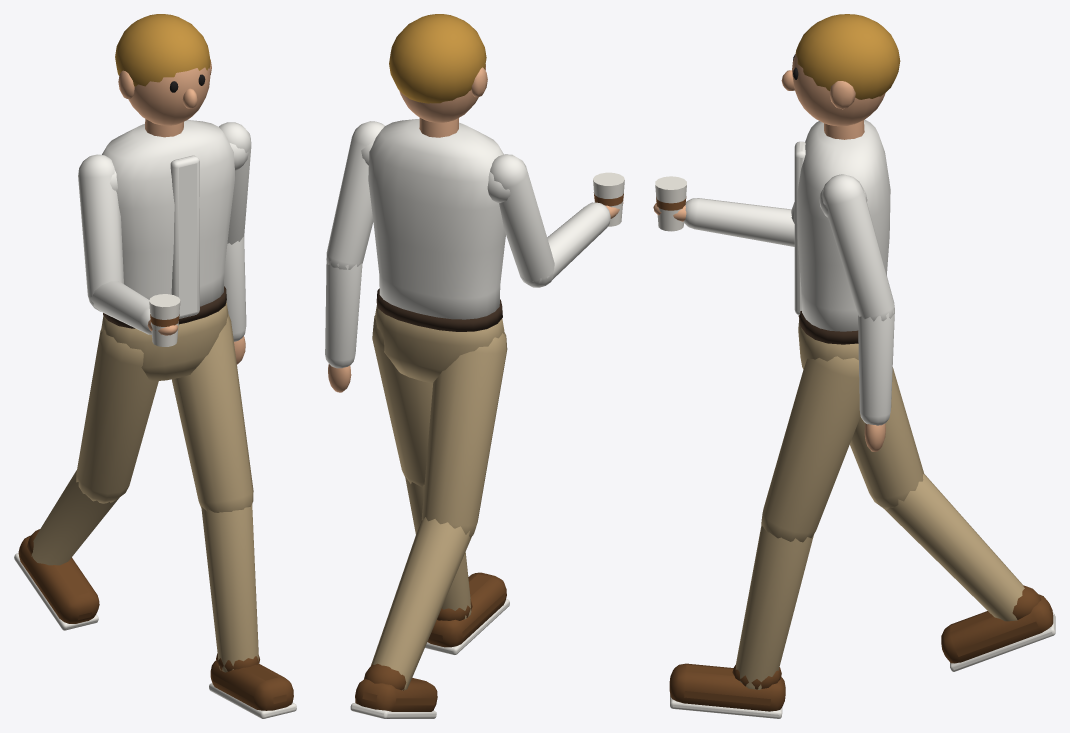
The model's file is coffee_guy.fbx.
3 renders of one model, left to right at view 1: azimuth 30°, elevation 25°; view 2: azimuth 150°, elevation 25°; view 3: azimuth 270°, elevation 25°, orthographic. The views are drawn at different scales.
Parts seen in each view (by area): view 1: coffee_guy; view 2: coffee_guy; view 3: coffee_guy.
Part boxes in pixels (left/top/right/bottom): coffee_guy: left=14, top=14, right=296, bottom=718; coffee_guy: left=325, top=14, right=624, bottom=718; coffee_guy: left=653, top=14, right=1055, bottom=718.
Bounding box in the file's own units: 0.5342 × 1.74 × 0.9363.
